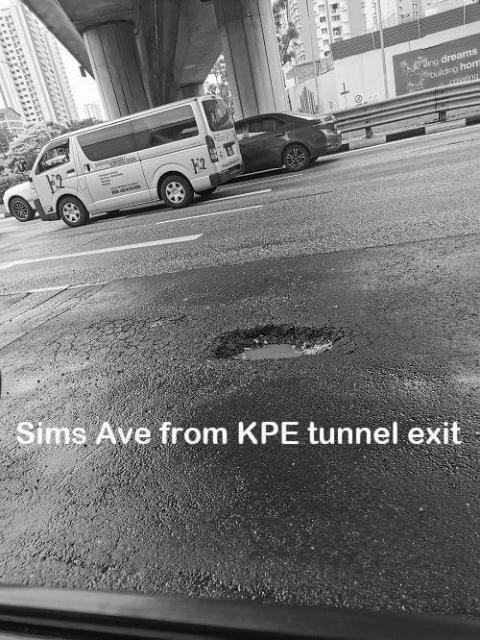Pothole: (209, 323, 337, 363)
